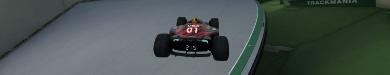Car: (152, 16, 230, 61)
curve: (0, 0, 266, 74)
grass: (253, 0, 389, 74)
